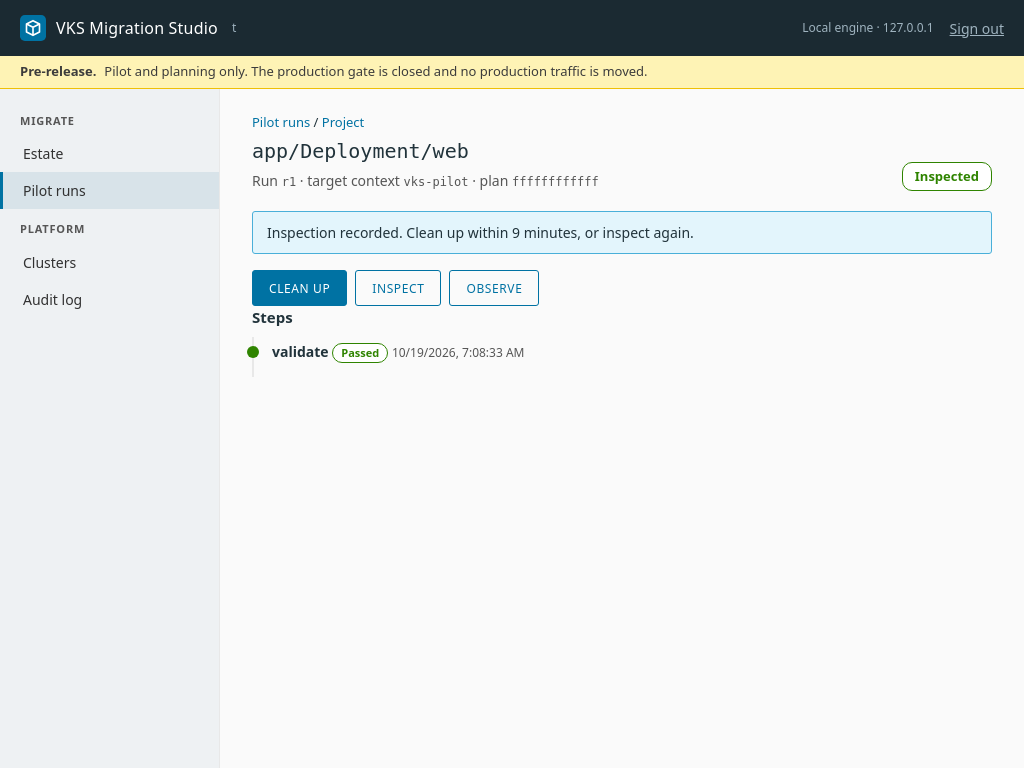
Test case: run page, refreshed confirmation › reloads the run before asking for the run ID, which an inspection can change
Click the button "Clean up" at (300, 288), box [252, 270, 347, 306]
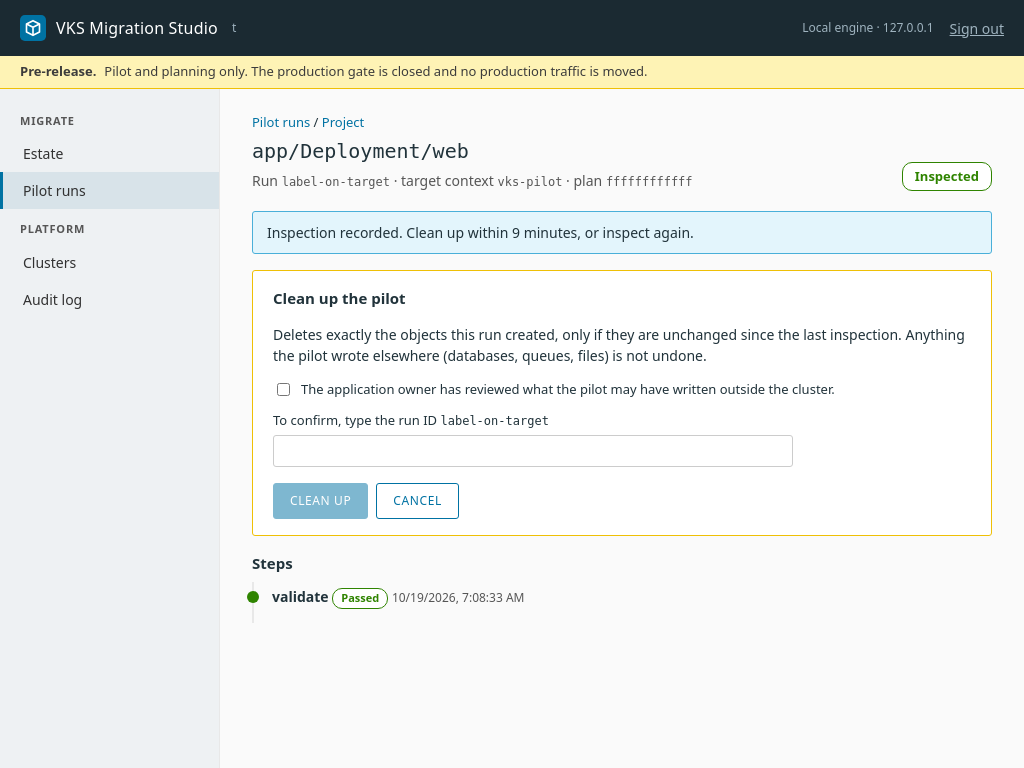
Check: the field labelled "To confirm, type the run ID label-on-target" is shown, box [273, 434, 793, 466]
